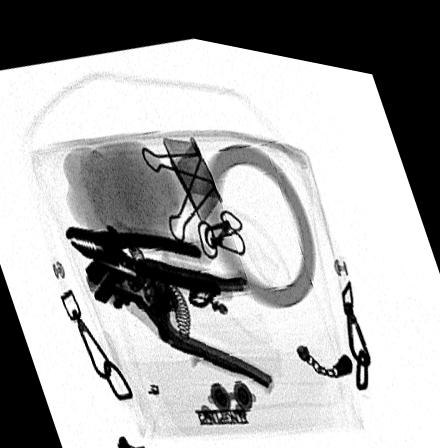Pliers: (84, 247, 272, 379), (64, 221, 222, 287)
